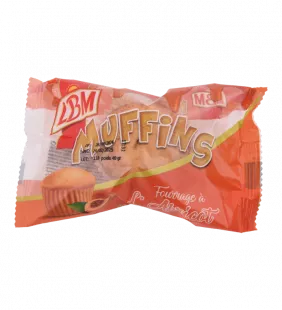LBM: (4, 68, 276, 244)
